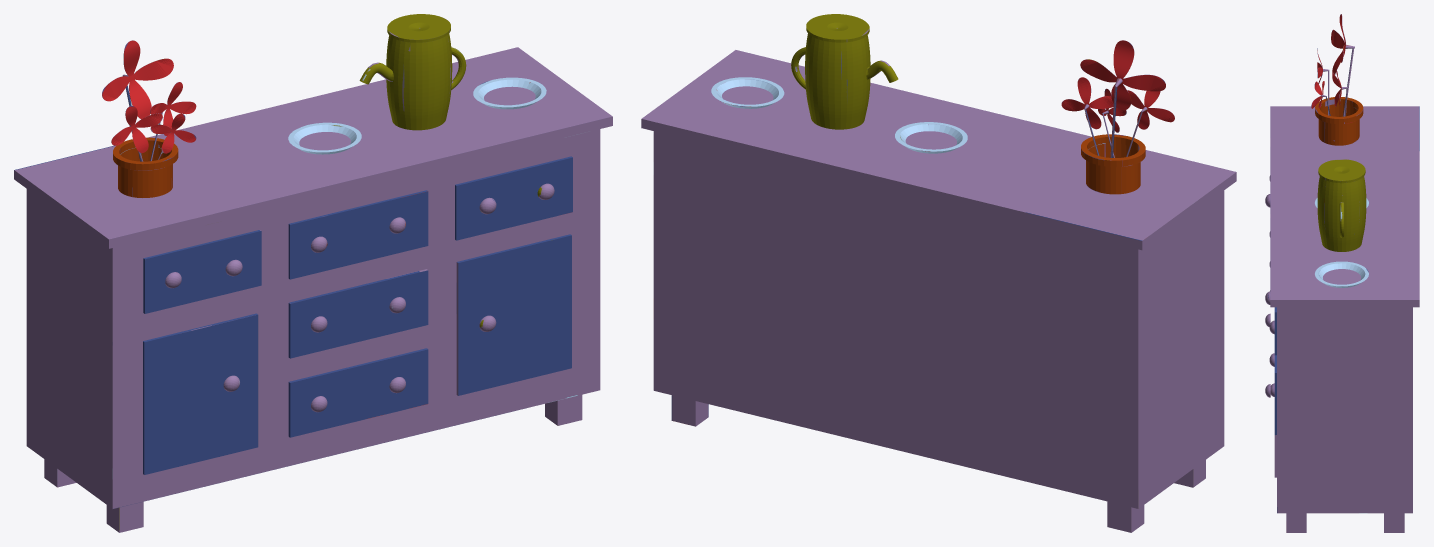
File: bufetera.obj
The picture shows the model from 3 angles, left to right: view 1: azimuth 30°, elevation 25°; view 2: azimuth 150°, elevation 25°; view 3: azimuth 270°, elevation 25°; orthographic projection. The views are drawn at different scales.
Visible parts, largest first — view 1: Circle.006_Circle.007; view 2: Circle.006_Circle.007; view 3: Circle.006_Circle.007.
Boxes of the visible parts, <box> form: Circle.006_Circle.007: <box>14,14,612,532</box>; Circle.006_Circle.007: <box>641,14,1236,532</box>; Circle.006_Circle.007: <box>1265,14,1419,532</box>.
Bounding box in the file's own units: 17.34 × 14.96 × 5.85.
1 material, 1 textured.
